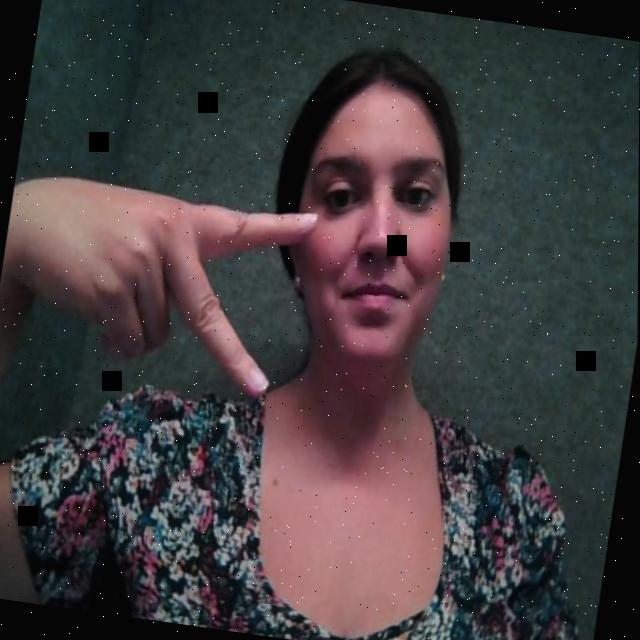Scissors: (0, 138, 363, 416)
